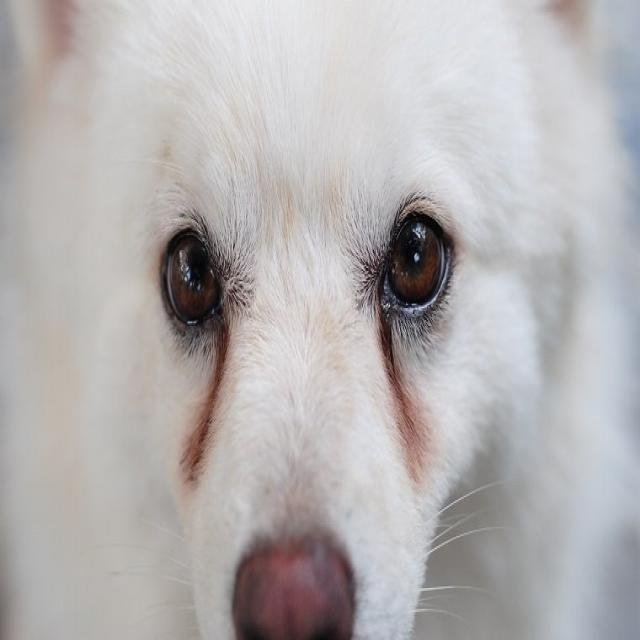eye: (372, 188, 462, 327), (156, 220, 232, 338)
